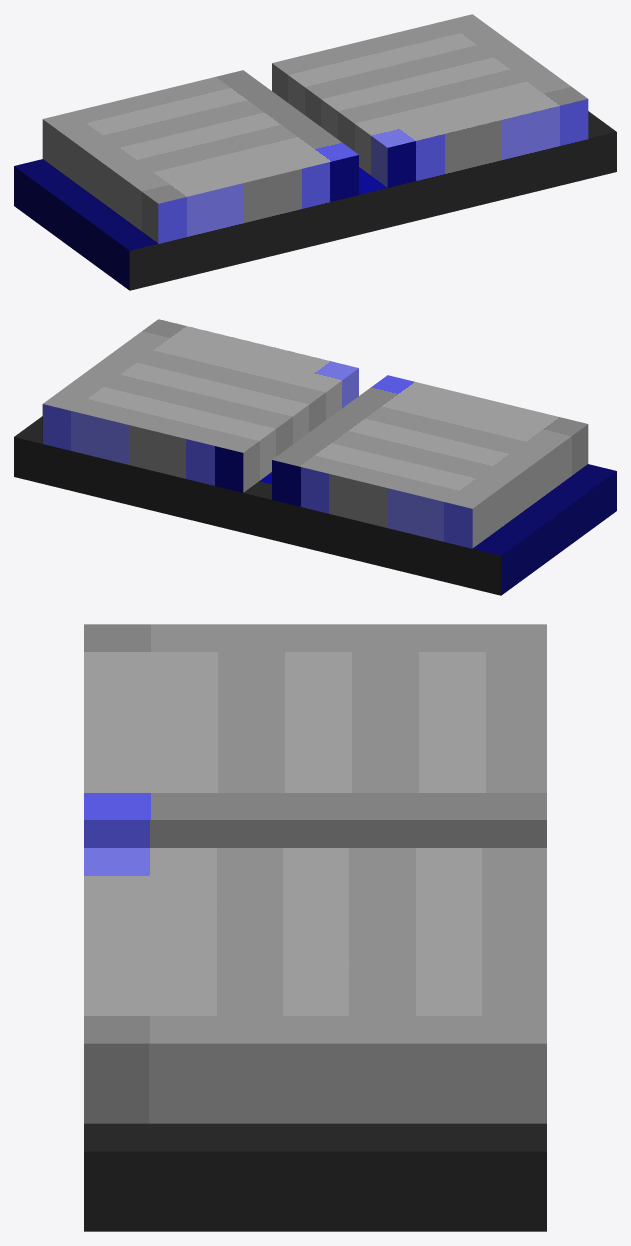
Rendered from book_0x282_15.glb.
The picture shows the model from 3 angles, top to bottom: view 1: azimuth 30°, elevation 25°; view 2: azimuth 150°, elevation 25°; view 3: azimuth 270°, elevation 25°; orthographic projection. The views are drawn at different scales.
Parts seen in each view (by area): view 1: Cube.001; view 2: Cube.001; view 3: Cube.001.
Boxes of the visible parts, left/top/right/bottom form: Cube.001: left=14, top=14, right=616, bottom=290; Cube.001: left=14, top=319, right=616, bottom=595; Cube.001: left=84, top=624, right=546, bottom=1231.
Size of the model in its own units: 1.06 by 0.1667 by 0.4375.
Materials: 1 (1 with a texture image).
